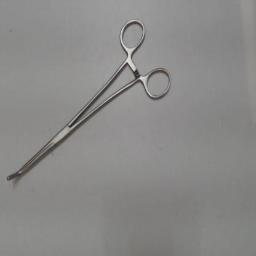Lahey Forceps: (2, 14, 174, 186)
